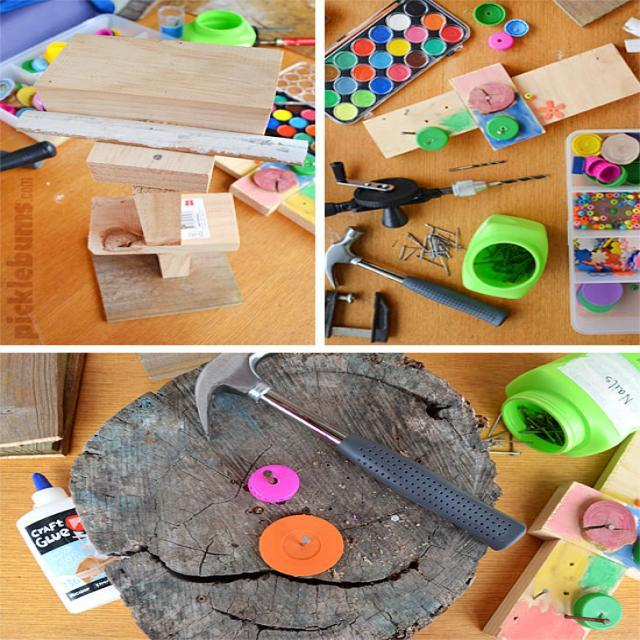hammer: (157, 352, 557, 562), (318, 225, 530, 327)
